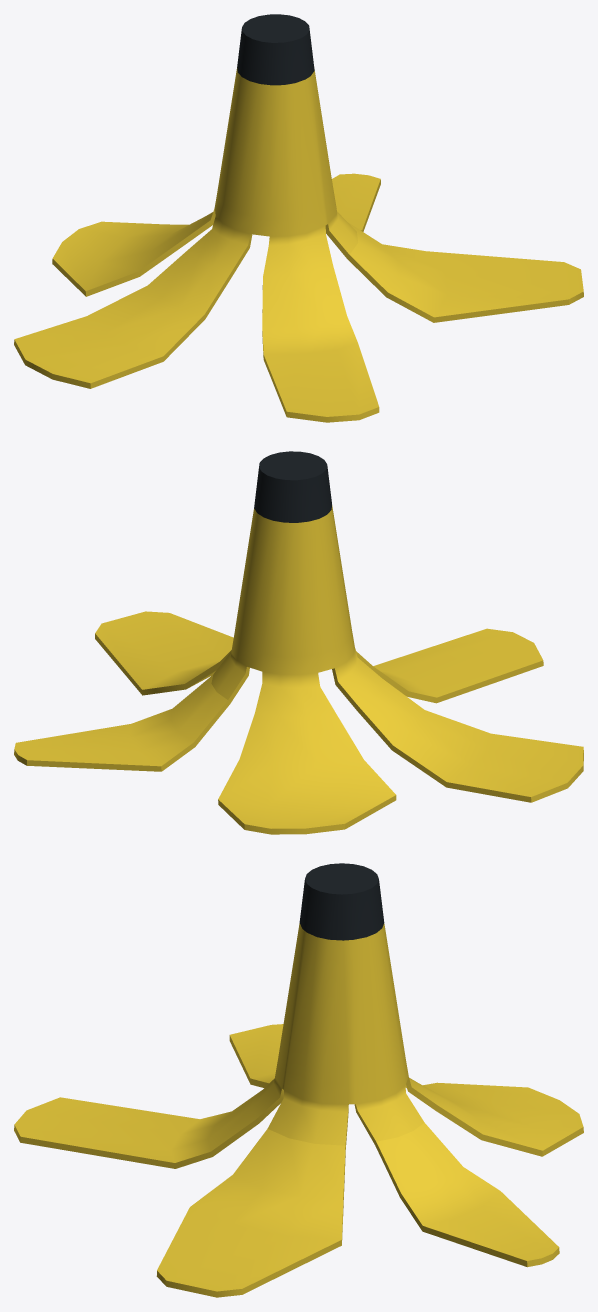
The model's file is SM_Banana.fbx.
3 views of the same model, one above another, from view 1: azimuth 30°, elevation 25°; view 2: azimuth 150°, elevation 25°; view 3: azimuth 270°, elevation 25° (orthographic). The views are drawn at different scales.
Visible parts, largest first — view 1: SM_Banana; view 2: SM_Banana; view 3: SM_Banana.
Part boxes in pixels (<box>): SM_Banana: <box>14,14,583,422</box>; SM_Banana: <box>14,451,583,834</box>; SM_Banana: <box>14,863,583,1297</box>.
Size of the model in its own units: 26.6 by 13.2 by 23.72.
1 material, 1 textured.
